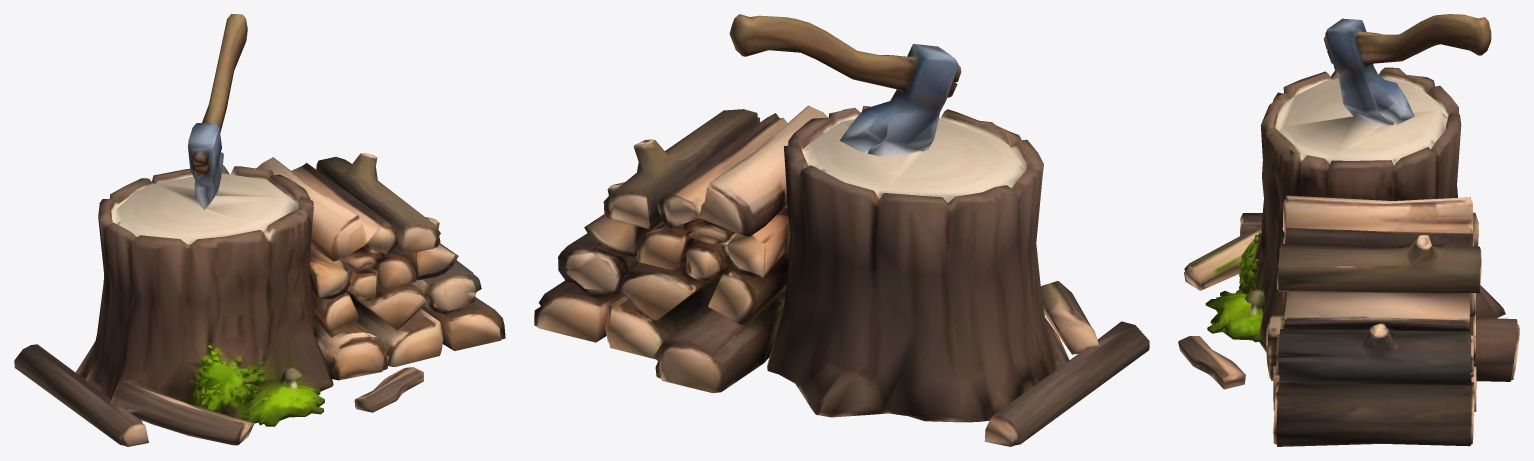
The model's file is woodpile-chop.glb.
The picture shows the model from 3 angles, left to right: view 1: azimuth 30°, elevation 25°; view 2: azimuth 150°, elevation 25°; view 3: azimuth 270°, elevation 25°; orthographic projection. The views are drawn at different scales.
Parts seen in each view (by area): view 1: node_0; view 2: node_0; view 3: node_0.
Part boxes in pixels (left/top/right/bottom): node_0: left=14, top=14, right=505, bottom=446; node_0: left=534, top=14, right=1149, bottom=446; node_0: left=1178, top=14, right=1519, bottom=446.
Bounding box in the file's own units: 1.8 × 1.29 × 1.2.
1 material, 1 textured.
